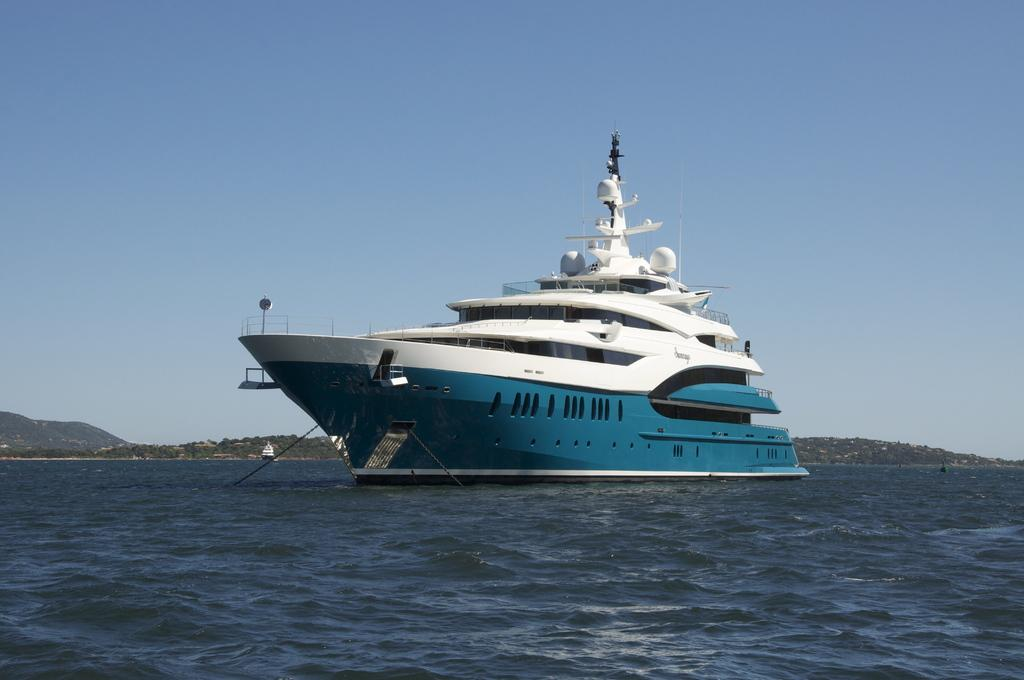PassengerShip: (242, 132, 818, 490)
